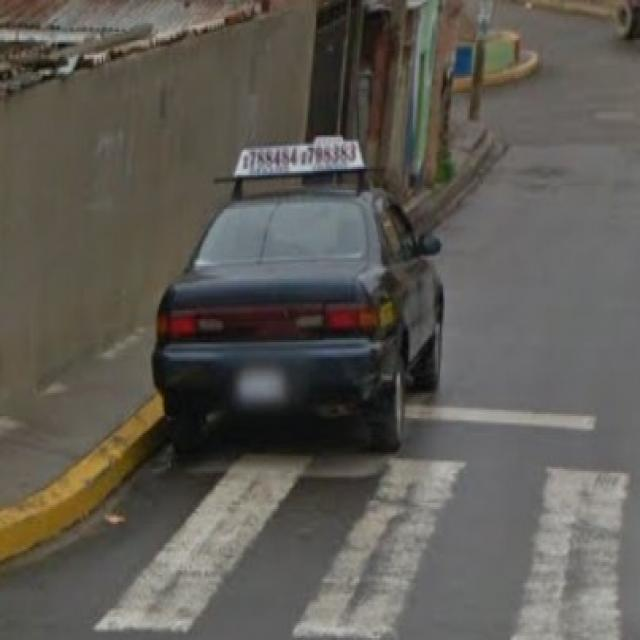cars: (146, 169, 453, 453)
